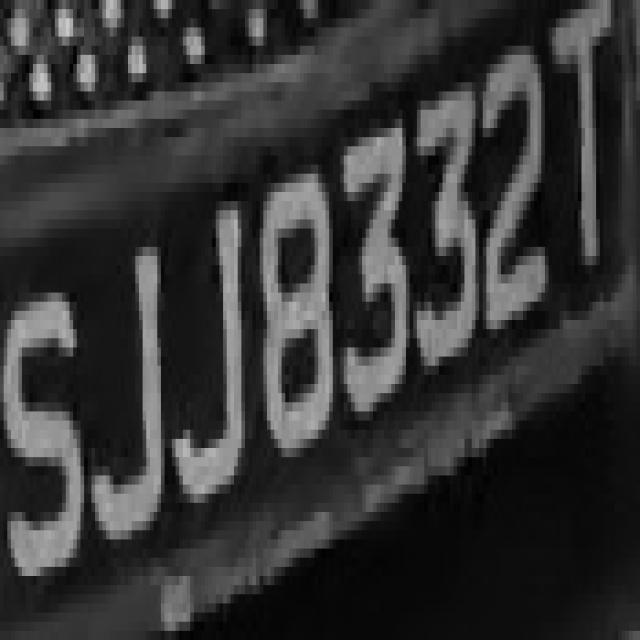2: (472, 46, 552, 384)
3: (329, 101, 413, 457), (402, 91, 483, 412)
8: (242, 147, 348, 476)
J: (84, 256, 172, 576), (172, 183, 249, 539)
S: (3, 292, 88, 612)
T: (538, 18, 626, 302)
